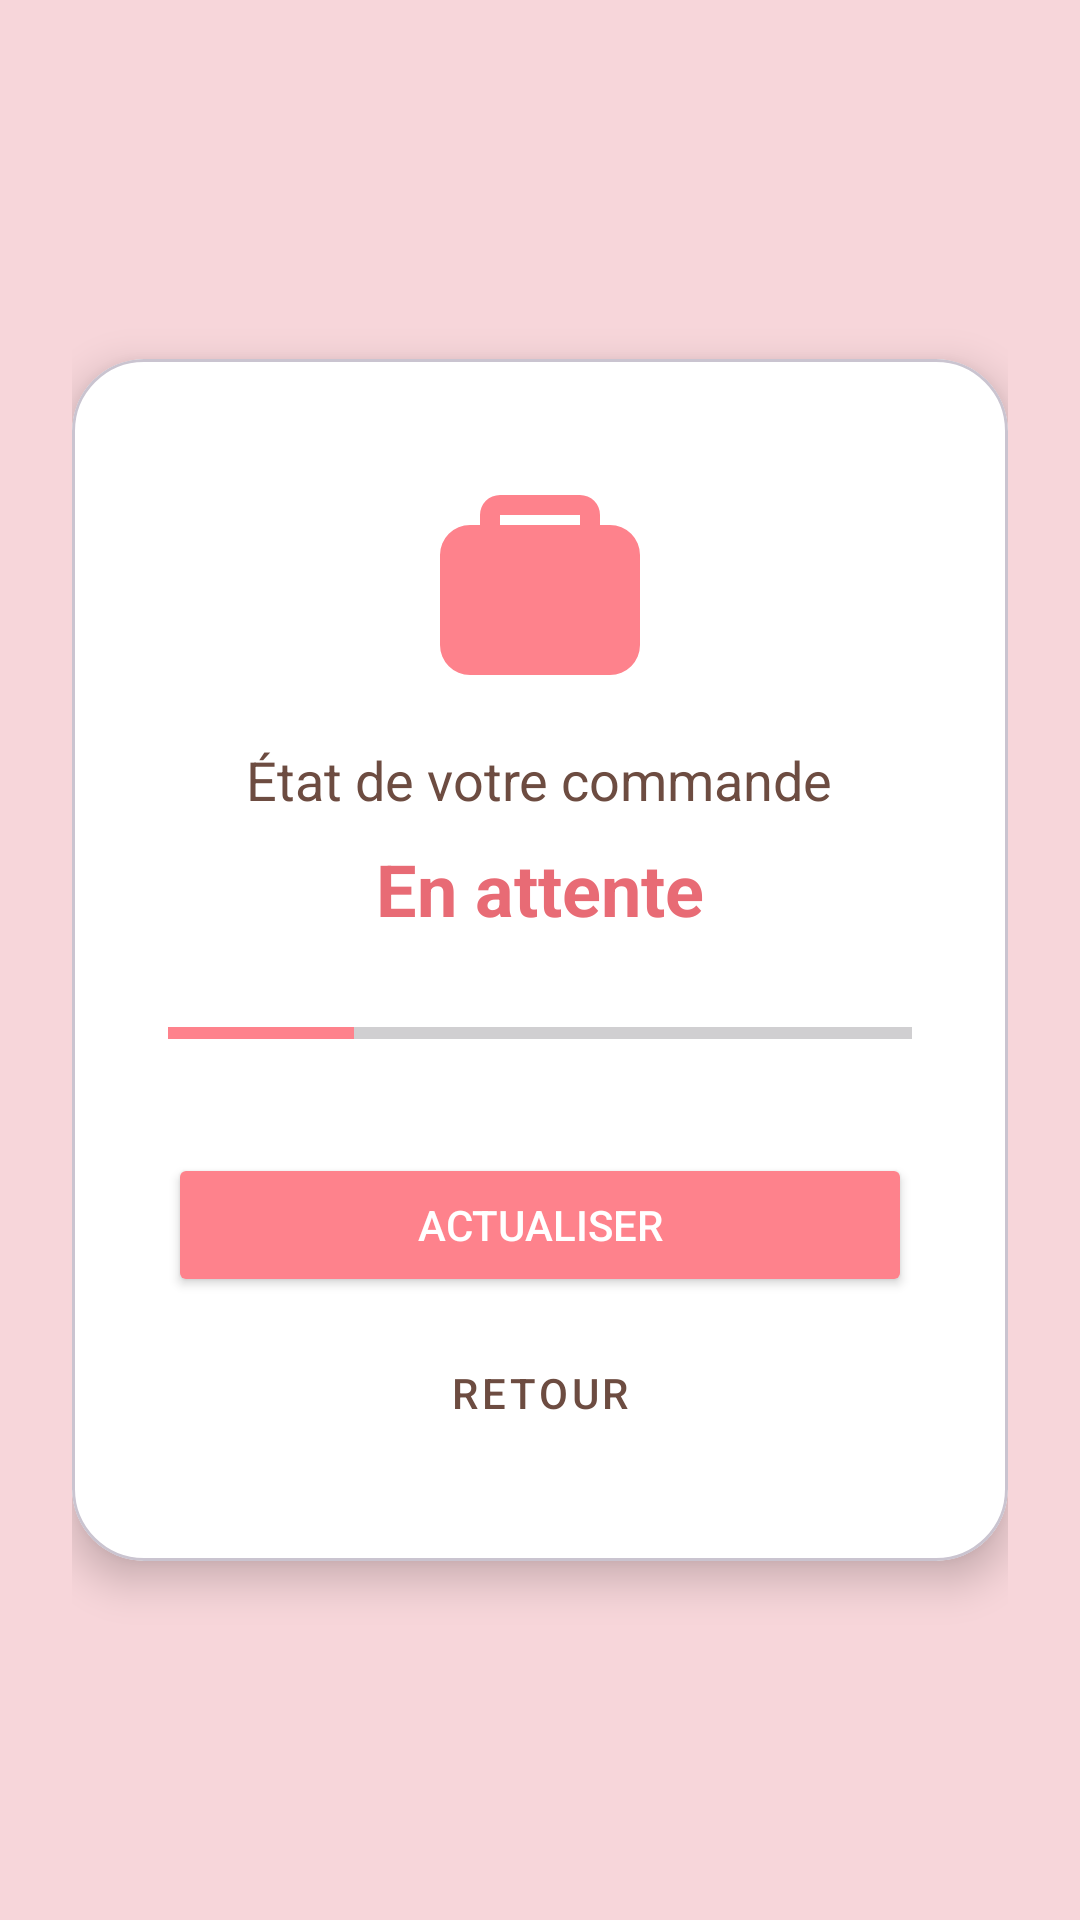

Icons on this 1080px x 1920px Android screen, each with the point to tap as point (x, y):
orders: point (540, 585)
